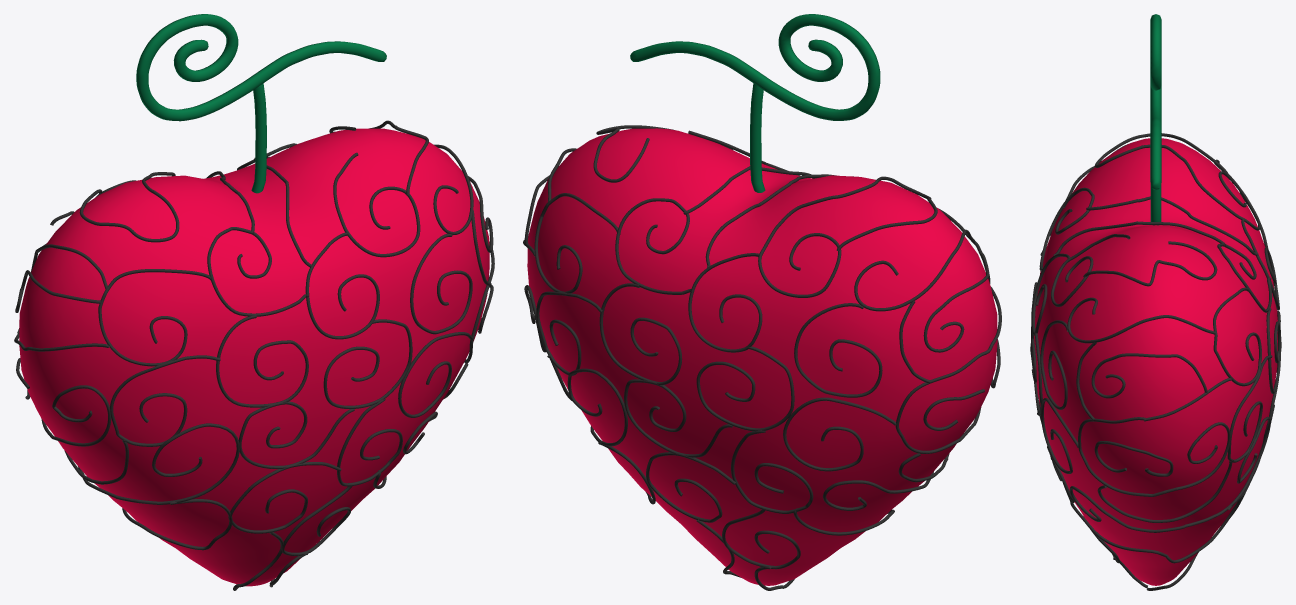
Rendered from Ope Ope No Mi.fbx.
3 views of the same model, side by side, from view 1: azimuth 30°, elevation 25°; view 2: azimuth 150°, elevation 25°; view 3: azimuth 270°, elevation 25° (orthographic). The views are drawn at different scales.
Parts seen in each view (by area): view 1: Sphere, Lines, Cylinder; view 2: Sphere, Lines, Cylinder; view 3: Sphere, Lines, Cylinder.
Part boxes in pixels (bbox=[...]): Sphere: bbox=[19, 128, 489, 586]; Lines: bbox=[14, 120, 494, 590]; Cylinder: bbox=[136, 14, 386, 193]; Sphere: bbox=[527, 128, 997, 585]; Lines: bbox=[523, 125, 1001, 590]; Cylinder: bbox=[630, 14, 880, 192]; Sphere: bbox=[1034, 138, 1277, 585]; Lines: bbox=[1030, 133, 1281, 590]; Cylinder: bbox=[1150, 14, 1161, 225].
Size of the model in its own units: 158 by 193 by 81.87.
